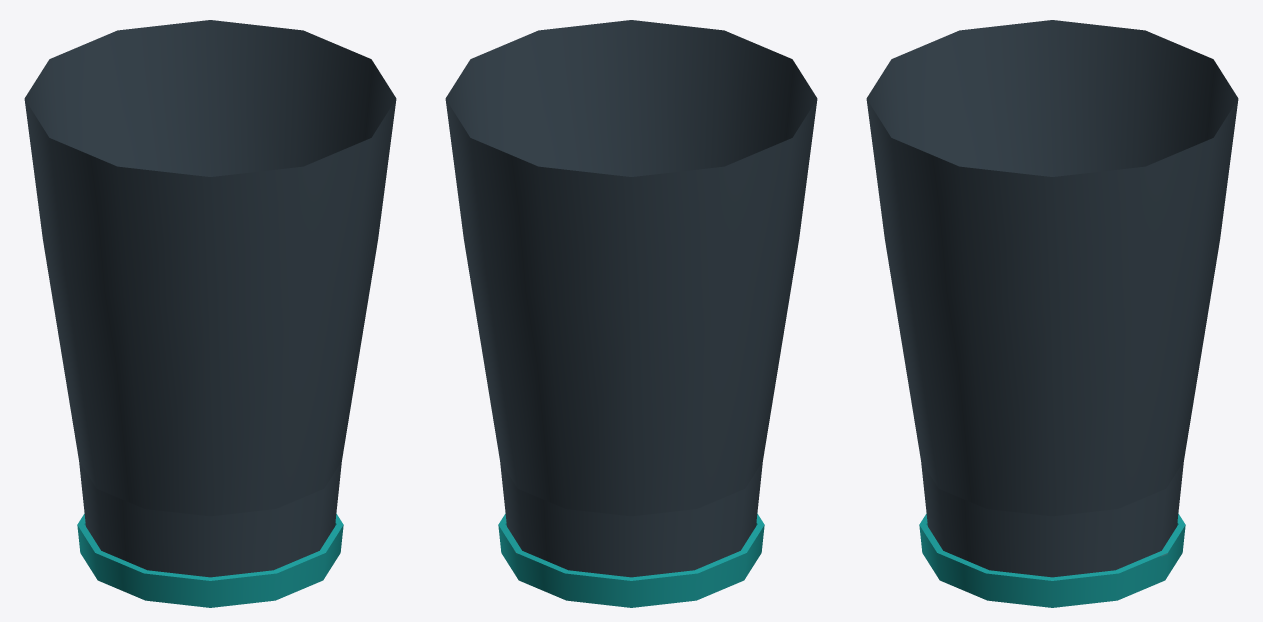
The model's file is CUP.fbx.
The picture shows the model from 3 angles, left to right: view 1: azimuth 30°, elevation 25°; view 2: azimuth 150°, elevation 25°; view 3: azimuth 270°, elevation 25°; orthographic projection.
Visible parts, largest first — view 1: cup; view 2: cup; view 3: cup.
Part boxes in pixels (x1=…): cup: x1=24, y1=20, x2=396, y2=607; cup: x1=445, y1=20, x2=817, y2=607; cup: x1=866, y1=20, x2=1238, y2=607.
Size of the model in its own units: 22.73 by 29.19 by 22.73.
